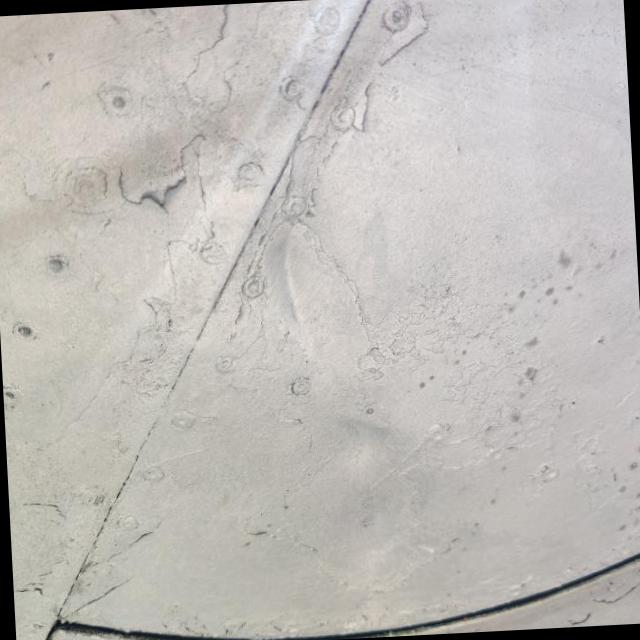Dent: (232, 219, 369, 379)
